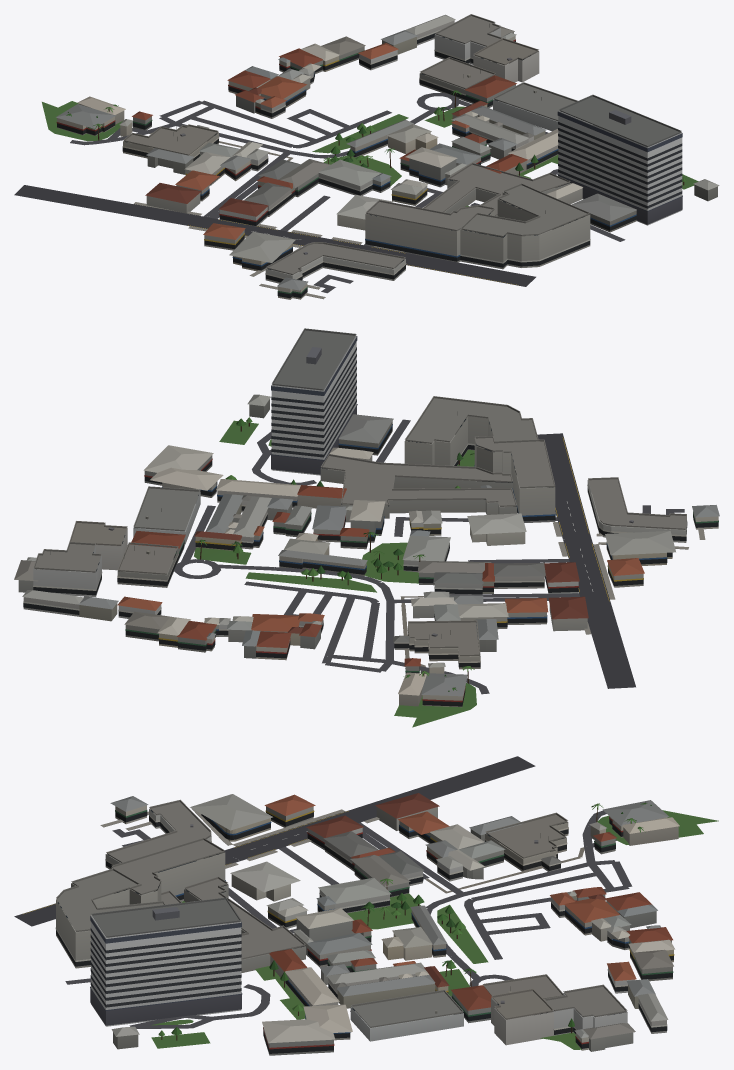
3 views of the same model, one above another, from view 1: azimuth 30°, elevation 25°; view 2: azimuth 150°, elevation 25°; view 3: azimuth 270°, elevation 25° (orthographic). The views are drawn at different scales.
Visible parts, largest first — view 1: Buildings__r-12c-7-col, Velez Medical Arts Building-col, Cebu Institute of Medicine-col, Windows__r-12c-7, Roads_Minor__r-12c-7, Roads_Major__r-12c-7, Landuse__r-12c-7, Archbishop's Palace-col, Velez College Annex Building-col, Props_Foliage__r-12c-7, Sidewalks__r-12c-7-col; view 2: Buildings__r-12c-7-col, Velez Medical Arts Building-col, Roads_Minor__r-12c-7, Windows__r-12c-7, Roads_Major__r-12c-7, Cebu Institute of Medicine-col, Landuse__r-12c-7, Archbishop's Palace-col, Velez College Annex Building-col, Props_Foliage__r-12c-7, Sidewalks__r-12c-7-col; view 3: Buildings__r-12c-7-col, Velez Medical Arts Building-col, Roads_Minor__r-12c-7, Windows__r-12c-7, Landuse__r-12c-7, Cebu Institute of Medicine-col, Roads_Major__r-12c-7, Velez College Annex Building-col, Archbishop's Palace-col, Props_Foliage__r-12c-7, Sidewalks__r-12c-7-col, Archbishop's Chapel-col.
Boxes of the visible parts, x1=… form: Buildings__r-12c-7-col: x1=56, y1=14, x2=719, y2=299; Velez Medical Arts Building-col: x1=557, y1=94, x2=682, y2=225; Cebu Institute of Medicine-col: x1=460, y1=183, x2=590, y2=269; Windows__r-12c-7: x1=56, y1=29, x2=636, y2=298; Roads_Minor__r-12c-7: x1=70, y1=93, x2=625, y2=293; Roads_Major__r-12c-7: x1=14, y1=185, x2=535, y2=286; Landuse__r-12c-7: x1=42, y1=101, x2=698, y2=206; Archbishop's Palace-col: x1=434, y1=14, x2=502, y2=64; Velez College Annex Building-col: x1=122, y1=124, x2=219, y2=161; Props_Foliage__r-12c-7: x1=66, y1=90, x2=686, y2=181; Sidewalks__r-12c-7-col: x1=134, y1=202, x2=403, y2=299; Buildings__r-12c-7-col: x1=22, y1=394, x2=719, y2=707; Velez Medical Arts Building-col: x1=270, y1=328, x2=357, y2=475; Roads_Minor__r-12c-7: x1=174, y1=419, x2=684, y2=694; Windows__r-12c-7: x1=23, y1=424, x2=718, y2=706; Roads_Major__r-12c-7: x1=537, y1=433, x2=635, y2=688; Cebu Institute of Medicine-col: x1=404, y1=396, x2=538, y2=474; Landuse__r-12c-7: x1=194, y1=420, x2=476, y2=727; Archbishop's Palace-col: x1=33, y1=541, x2=102, y2=597; Velez College Annex Building-col: x1=407, y1=620, x2=480, y2=669; Props_Foliage__r-12c-7: x1=197, y1=417, x2=474, y2=691; Sidewalks__r-12c-7-col: x1=553, y1=512, x2=705, y2=634; Buildings__r-12c-7-col: x1=105, y1=793, x2=679, y2=1055; Velez Medical Arts Building-col: x1=90, y1=897, x2=242, y2=1026; Roads_Minor__r-12c-7: x1=65, y1=810, x2=632, y2=1028; Windows__r-12c-7: x1=105, y1=810, x2=674, y2=1053; Landuse__r-12c-7: x1=151, y1=810, x2=718, y2=1049; Cebu Institute of Medicine-col: x1=55, y1=868, x2=165, y2=968; Roads_Major__r-12c-7: x1=14, y1=756, x2=535, y2=926; Velez College Annex Building-col: x1=484, y1=812, x2=568, y2=871; Archbishop's Palace-col: x1=544, y1=984, x2=627, y2=1035; Props_Foliage__r-12c-7: x1=158, y1=802, x2=651, y2=1036; Sidewalks__r-12c-7-col: x1=100, y1=808, x2=379, y2=868; Archbishop's Chapel-col: x1=583, y1=1023, x2=635, y2=1051.
Size of the model in its own units: 322 by 48.7 by 322.
